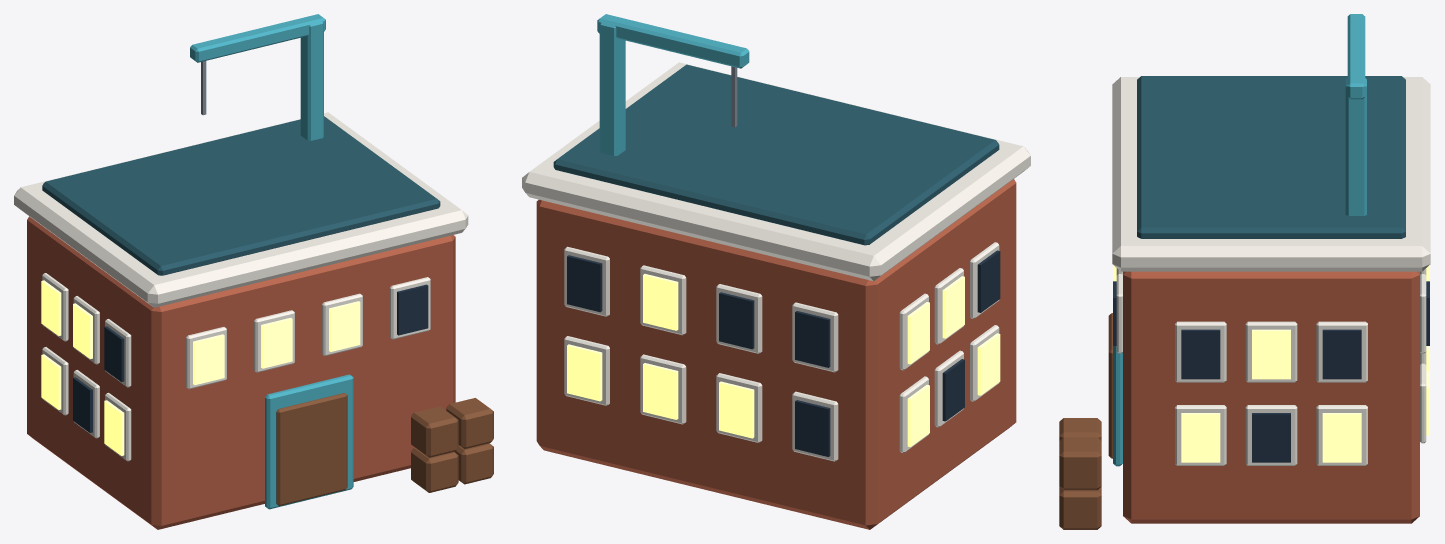
The picture shows the model from 3 angles, left to right: view 1: azimuth 30°, elevation 25°; view 2: azimuth 150°, elevation 25°; view 3: azimuth 270°, elevation 25°; orthographic projection. The views are drawn at different scales.
Parts seen in each view (by area): view 1: Cube; view 2: Cube; view 3: Cube.
Part boxes in pixels (<box>): Cube: <box>14,14,493,529</box>; Cube: <box>522,14,1030,529</box>; Cube: <box>1059,14,1430,529</box>.
Size of the model in its own units: 0.59 by 0.6625 by 0.525.
